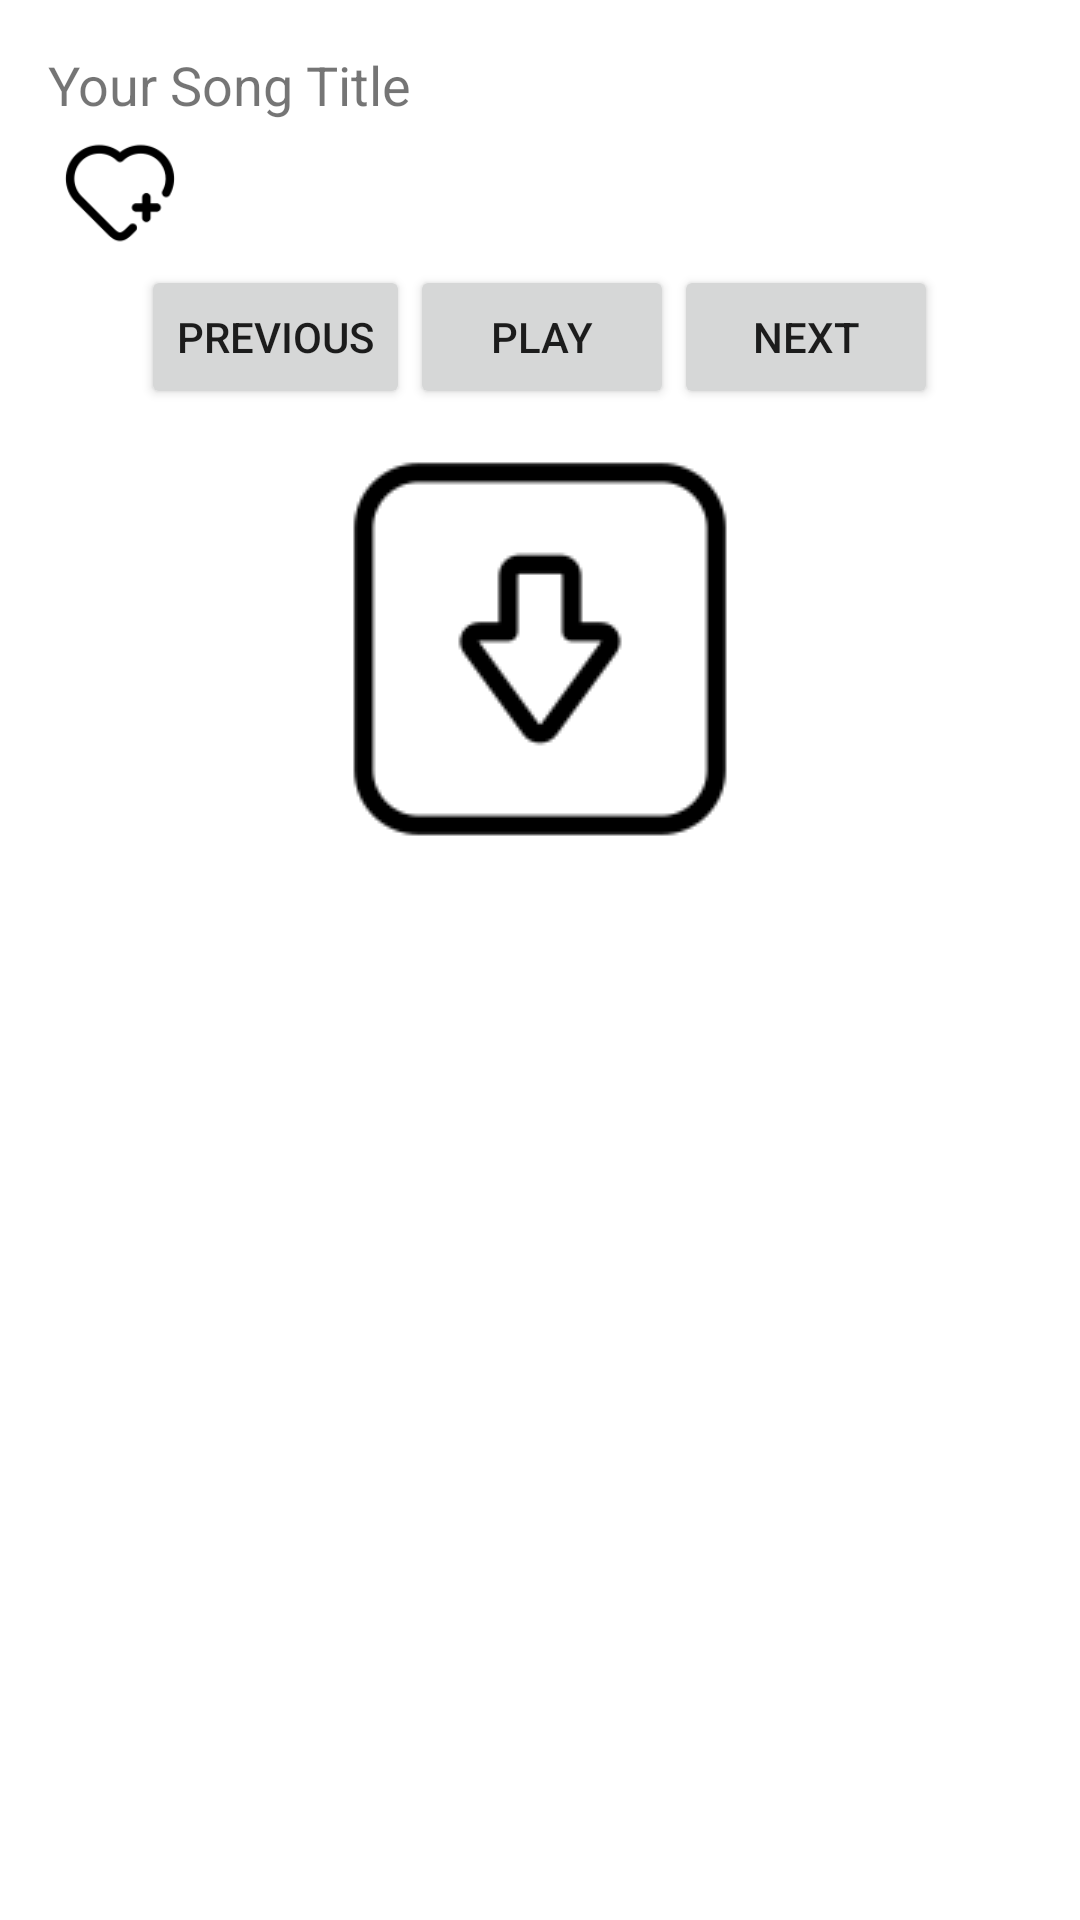

Named icons in this screenshot (1080×1920) and their bounding boxes, (x1=x1, y1=y1, x2=x2, y2=y2):
add favorate: (x1=65, y1=144, x2=175, y2=242)
